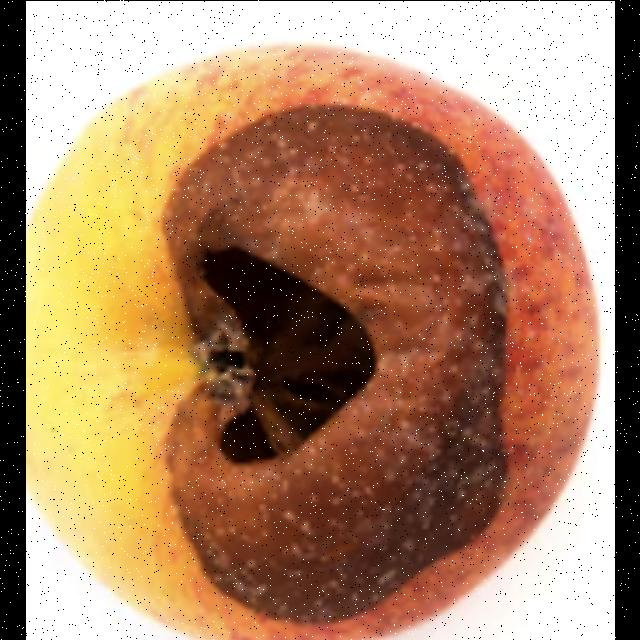Apel Tidak Segar: (25, 51, 575, 640)
